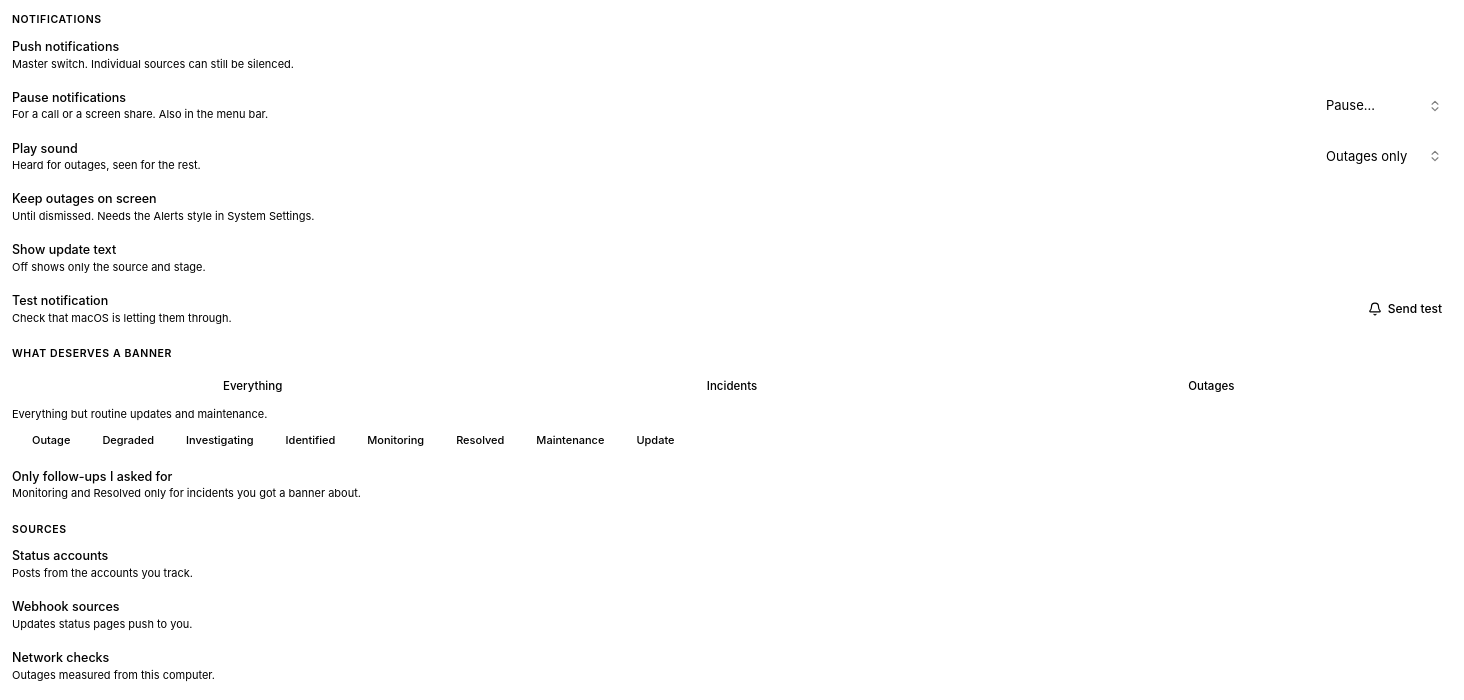
it: the test notification › sends one, and says where to look if nothing appeared
What coordinates should you click on to do the following:
click the button "Send test"
I would click on:
 (1405, 309)
Its box is [1358,295,1452,323].
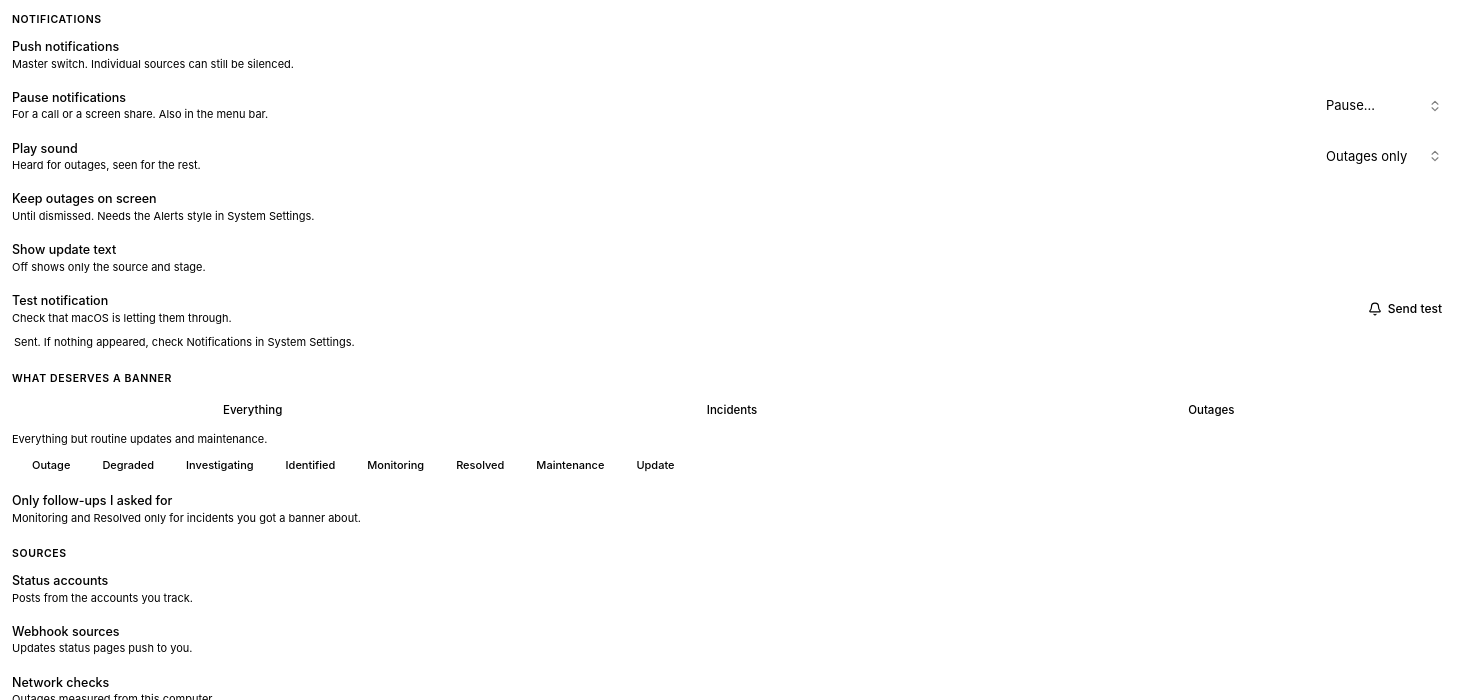
Now the message shows "Sent.", box [14,335,355,349]
